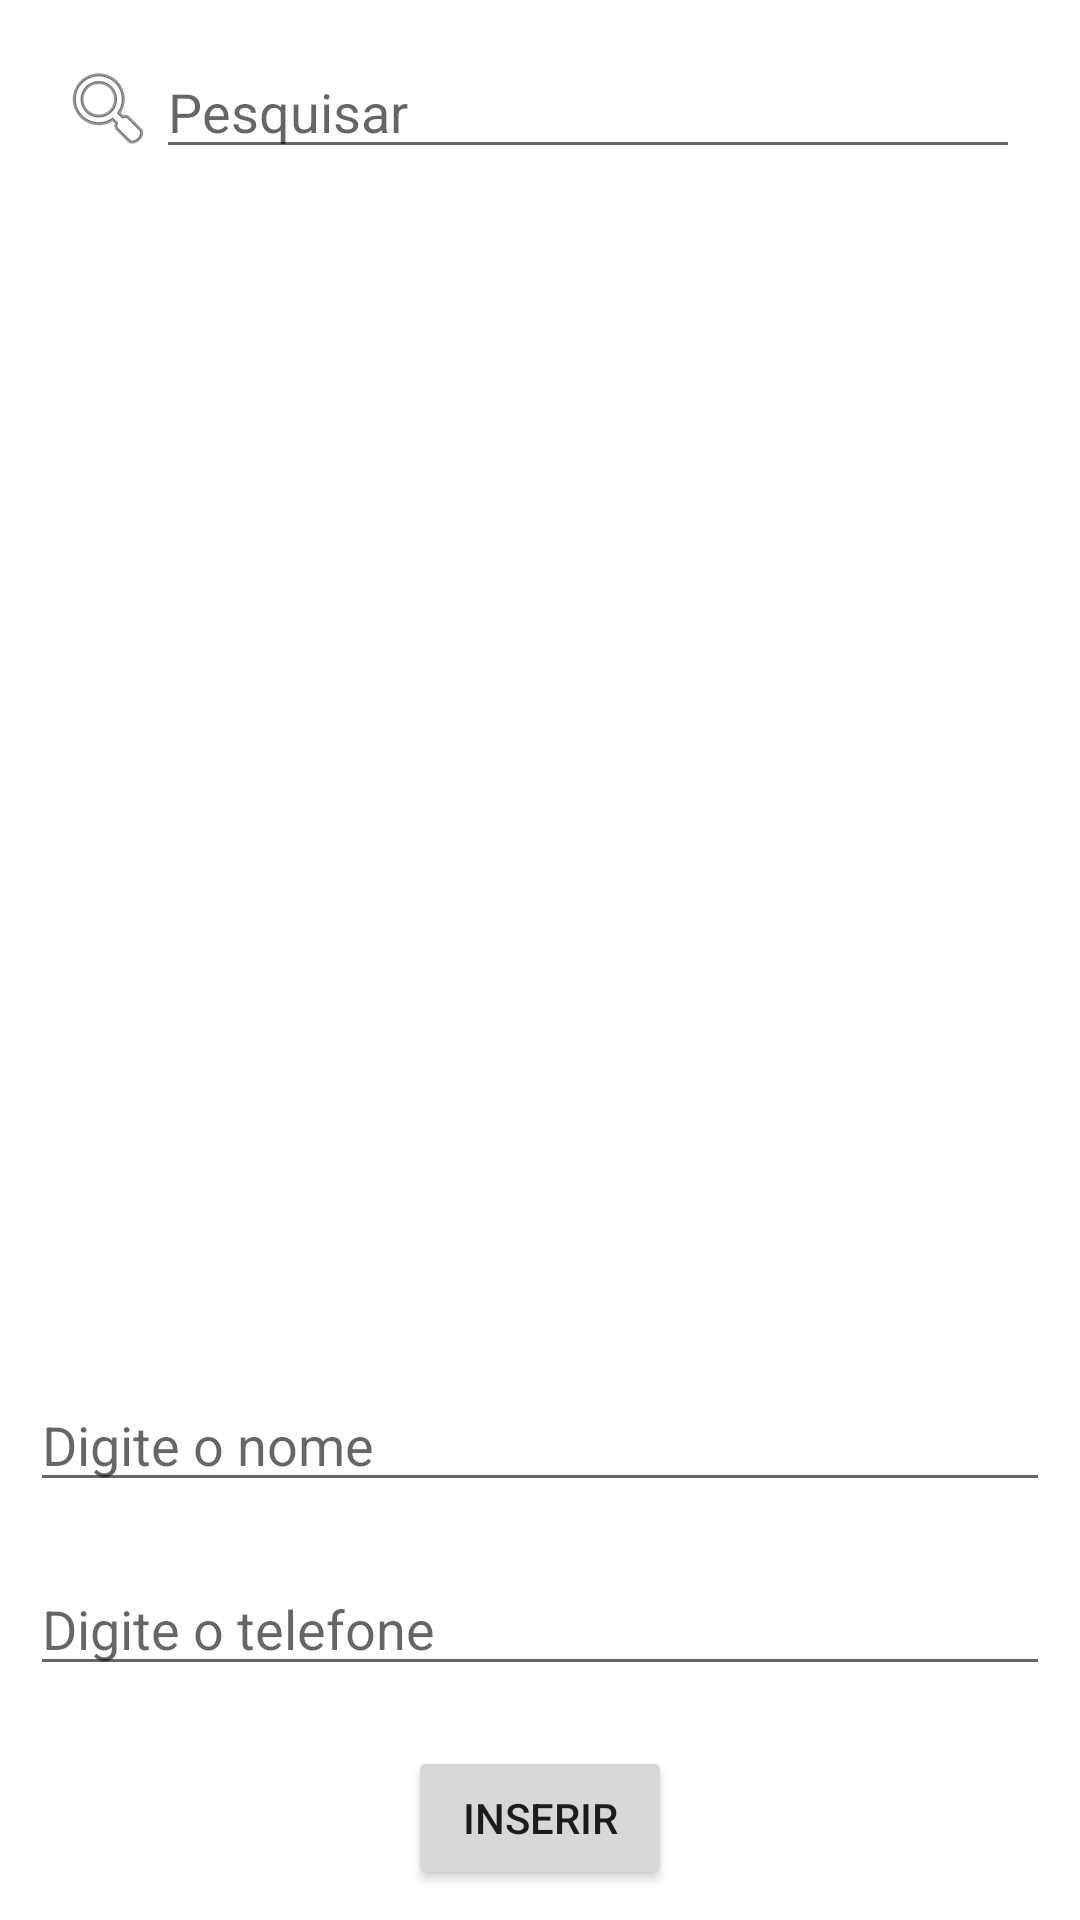

Screen size 1080x1920. Icon name, then its box in pixels as region(x1, y1, x2, y2):
search: region(72, 73, 144, 144)
